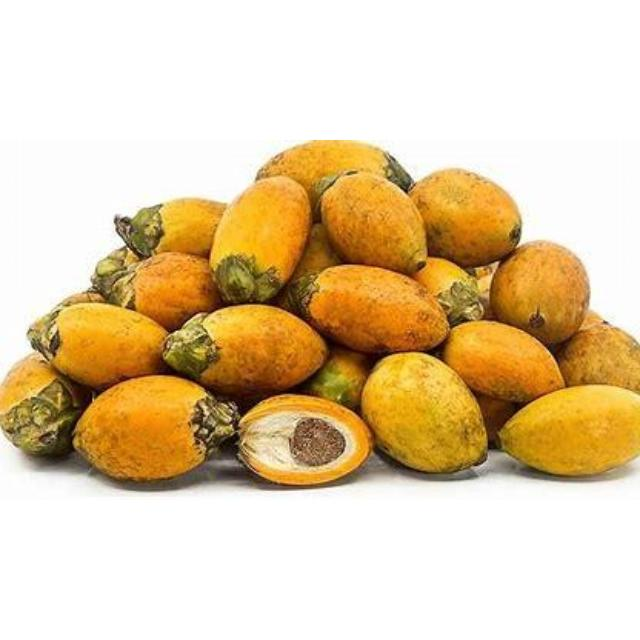damaged: (237, 394, 369, 484)
good: (362, 352, 486, 472), (80, 380, 220, 484), (165, 304, 322, 394), (297, 265, 445, 353), (498, 386, 638, 476), (319, 171, 427, 275), (409, 168, 519, 268), (256, 140, 406, 212), (442, 322, 564, 406), (45, 303, 169, 385), (2, 356, 88, 454), (497, 240, 583, 336), (231, 194, 311, 292), (132, 252, 224, 332), (552, 320, 638, 400), (118, 199, 222, 261), (92, 248, 142, 306)
